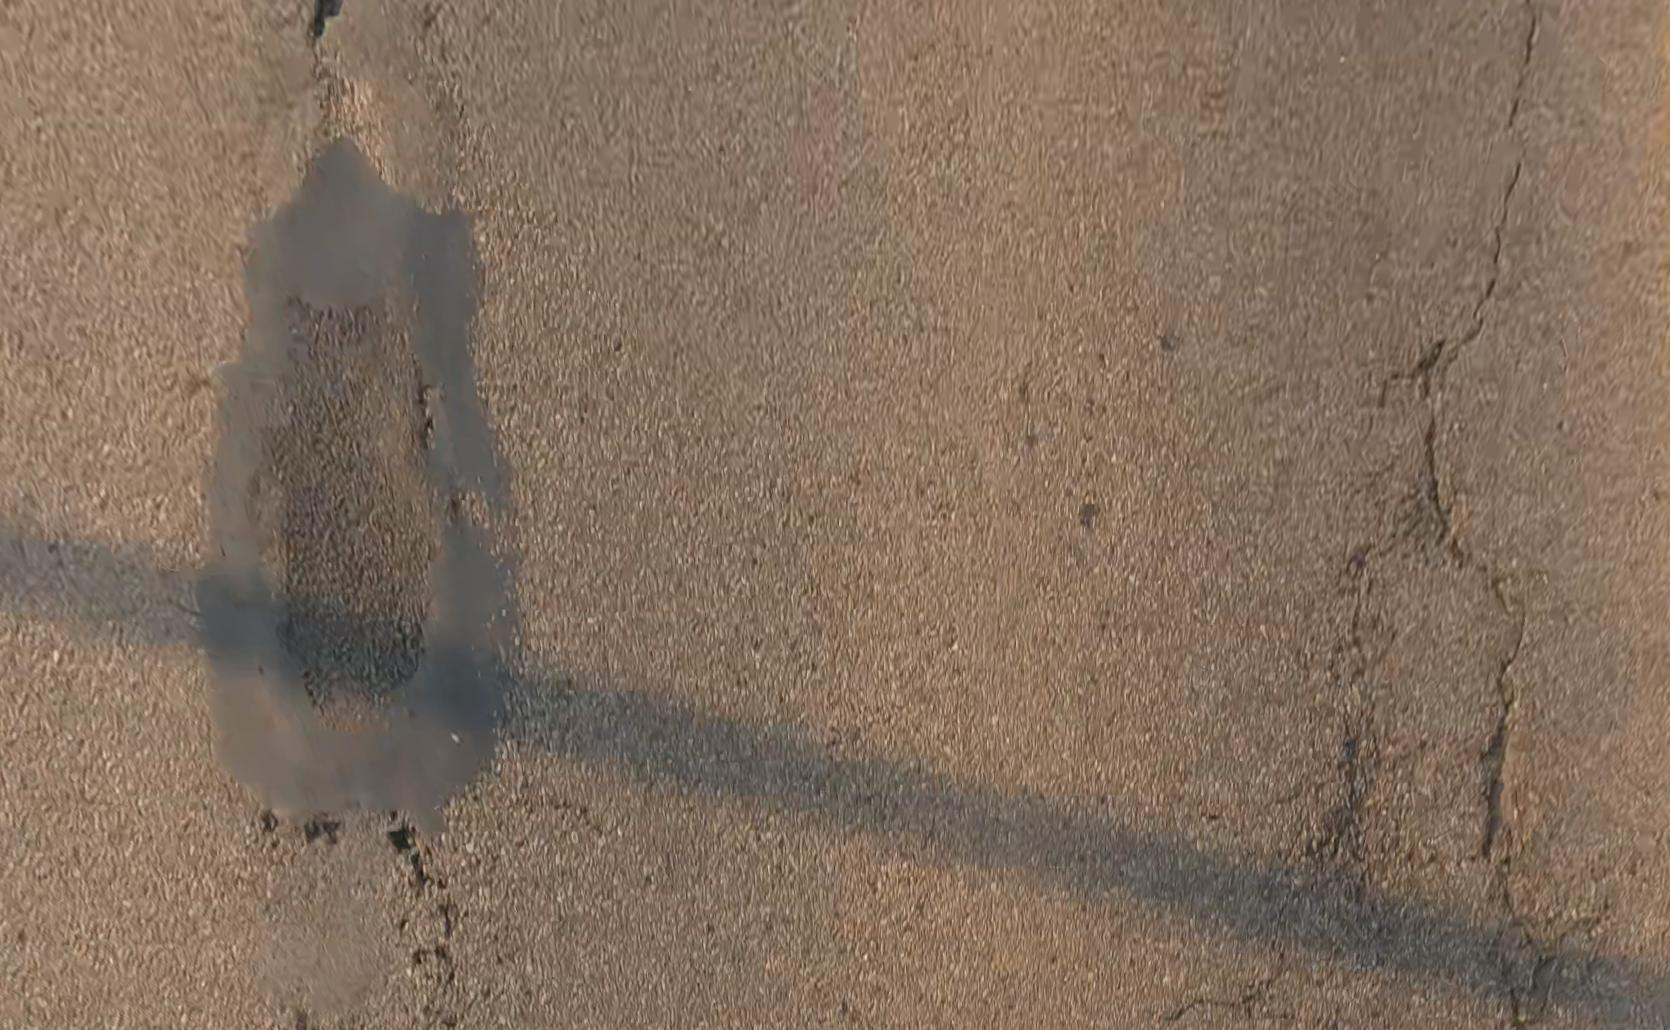pothole_patch_good: (184, 0, 532, 832)
pothole_patch_poor: (1315, 535, 1529, 878)
